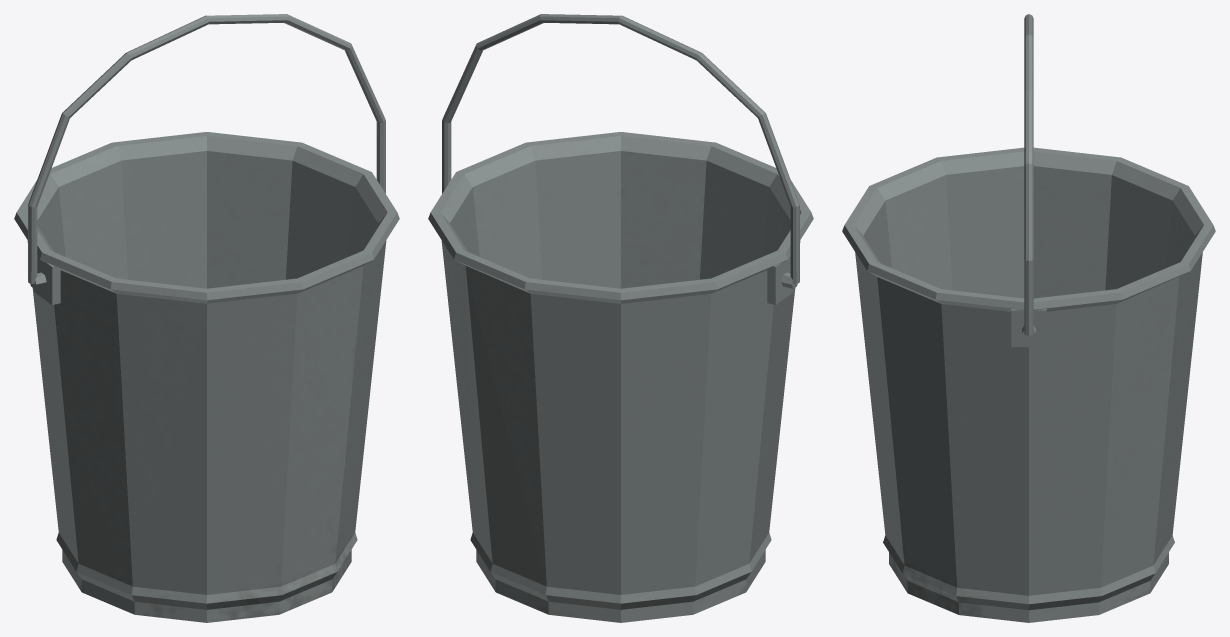
File: farmland_farm_small_clutter_bucket.glb
3 renders of one model, left to right at view 1: azimuth 30°, elevation 25°; view 2: azimuth 150°, elevation 25°; view 3: azimuth 270°, elevation 25°, orthographic. The views are drawn at different scales.
Parts seen in each view (by area): view 1: FarmClutterBucket; view 2: FarmClutterBucket; view 3: FarmClutterBucket.
Part boxes in pixels (x1=…): FarmClutterBucket: x1=14, y1=14, x2=399, y2=622; FarmClutterBucket: x1=428, y1=14, x2=813, y2=622; FarmClutterBucket: x1=842, y1=14, x2=1215, y2=622.
Size of the model in its own units: 0.3419 by 0.5 by 0.32.
1 material, 1 textured.
